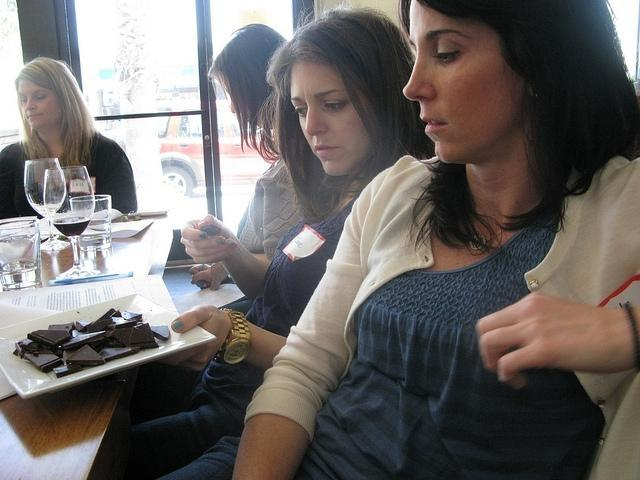car: (150, 64, 274, 198)
